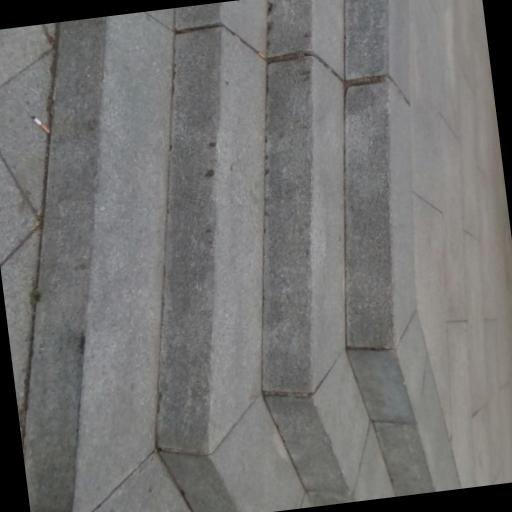stairs: (23, 0, 457, 511)
